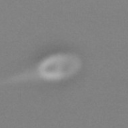normal: (1, 66, 38, 89)
